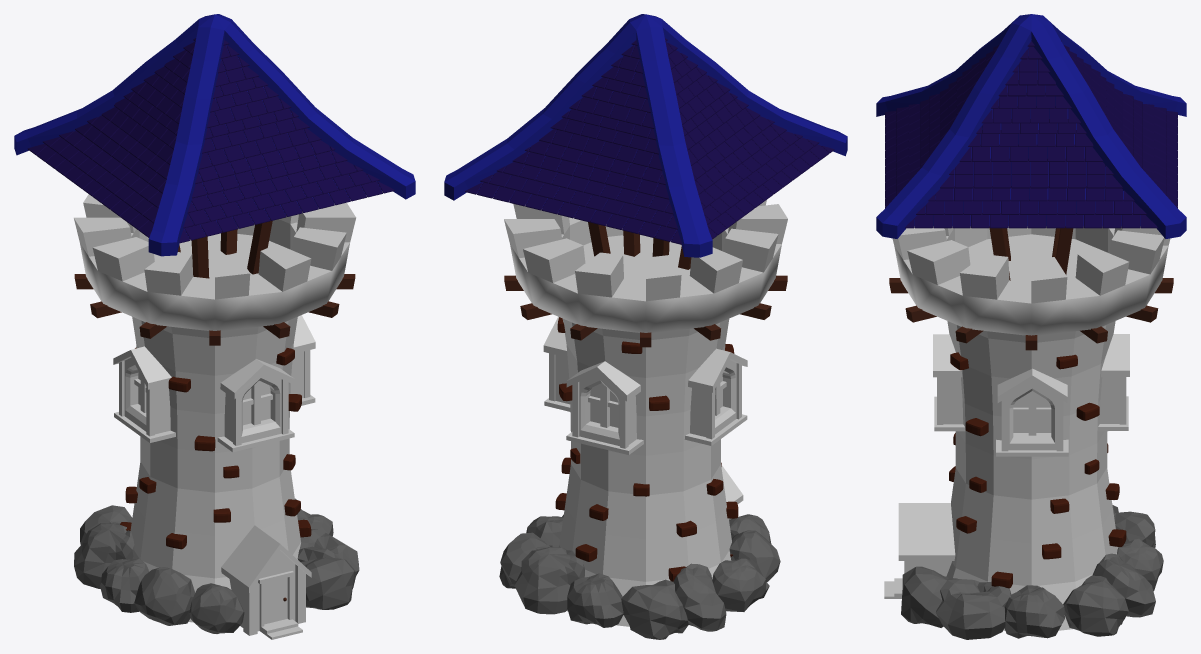
3 renders of one model, left to right at view 1: azimuth 30°, elevation 25°; view 2: azimuth 150°, elevation 25°; view 3: azimuth 270°, elevation 25°, orthographic.
Visible parts, largest first — view 1: main_Cylinder.002, roof_4e_Plane.017, roof_main_Plane, stones_Sphere.005, windows_Cube.006, door_Cube.014, brick_Cube.004, opora_horiz_Cube.003, opora_vert_Cube.016; view 2: main_Cylinder.002, roof_4e_Plane.017, stones_Sphere.005, roof_main_Plane, windows_Cube.006, brick_Cube.004, opora_horiz_Cube.003, opora_vert_Cube.016; view 3: main_Cylinder.002, roof_4e_Plane.017, roof_main_Plane, stones_Sphere.005, windows_Cube.006, door_Cube.014, brick_Cube.004, opora_horiz_Cube.003, opora_vert_Cube.016.
Boxes of the visible parts, x1,y1,x2,y2 form: main_Cylinder.002: (74, 194, 356, 622); roof_4e_Plane.017: (27, 38, 394, 243); roof_main_Plane: (14, 14, 415, 256); stones_Sphere.005: (74, 498, 359, 633); windows_Cube.006: (113, 315, 315, 452); door_Cube.014: (221, 525, 311, 639); brick_Cube.004: (120, 347, 311, 549); opora_horiz_Cube.003: (74, 274, 355, 345); opora_vert_Cube.016: (178, 220, 272, 278); main_Cylinder.002: (504, 200, 787, 626); roof_4e_Plane.017: (465, 38, 834, 244); stones_Sphere.005: (499, 514, 780, 639); roof_main_Plane: (444, 14, 847, 257); windows_Cube.006: (543, 316, 747, 454); brick_Cube.004: (555, 317, 738, 581); opora_horiz_Cube.003: (504, 275, 787, 347); opora_vert_Cube.016: (588, 222, 691, 269); main_Cylinder.002: (892, 226, 1170, 630); roof_4e_Plane.017: (885, 40, 1177, 228); roof_main_Plane: (876, 14, 1186, 238); stones_Sphere.005: (901, 505, 1163, 639); windows_Cube.006: (933, 334, 1129, 456); door_Cube.014: (884, 503, 955, 598); brick_Cube.004: (949, 352, 1126, 588); opora_horiz_Cube.003: (889, 278, 1173, 350); opora_vert_Cube.016: (989, 226, 1073, 280).
Bounding box in the file's own units: 10.58 × 21.76 × 10.58.
